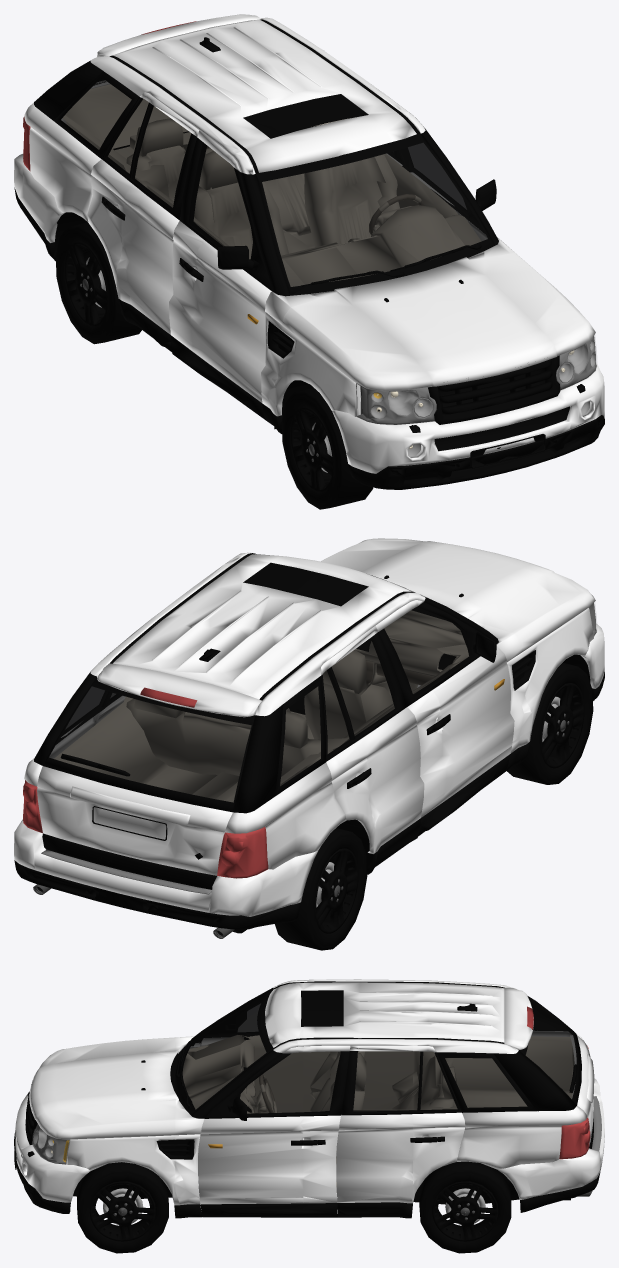
The model's file is rrsport.glb.
3 views of the same model, one above another, from view 1: azimuth 30°, elevation 25°; view 2: azimuth 150°, elevation 25°; view 3: azimuth 270°, elevation 25° (orthographic). The views are drawn at different scales.
Visible parts, largest first — view 1: body, door_fr, door_rr, wheel1, wheel3, door_fl, door_rl, wheel0; view 2: body, door_rr, door_fr, wheel3, wheel1; view 3: body, door_rl, door_fl, wheel0, wheel2, door_fr, door_rr.
Part boxes in pixels (<box>): body: <box>14,14,604,489</box>; door_fr: <box>190,149,326,404</box>; door_rr: <box>116,96,235,341</box>; wheel1: <box>281,383,436,509</box>; wheel3: <box>55,222,141,344</box>; door_fl: <box>401,108,514,258</box>; door_rl: <box>330,55,430,212</box>; wheel0: <box>556,336,596,415</box>; body: <box>14,538,604,938</box>; door_rr: <box>330,599,446,845</box>; door_fr: <box>401,593,530,795</box>; wheel3: <box>275,828,367,950</box>; wheel1: <box>507,602,596,784</box>; body: <box>14,979,604,1220</box>; door_rl: <box>303,1040,412,1197</box>; door_fl: <box>175,1041,303,1198</box>; wheel0: <box>32,1123,168,1253</box>; wheel2: <box>419,1161,511,1253</box>; door_fr: <box>175,980,303,1112</box>; door_rr: <box>303,979,412,1111</box>.
Bounding box in the file's own units: 1.99 × 1.84 × 4.85.
